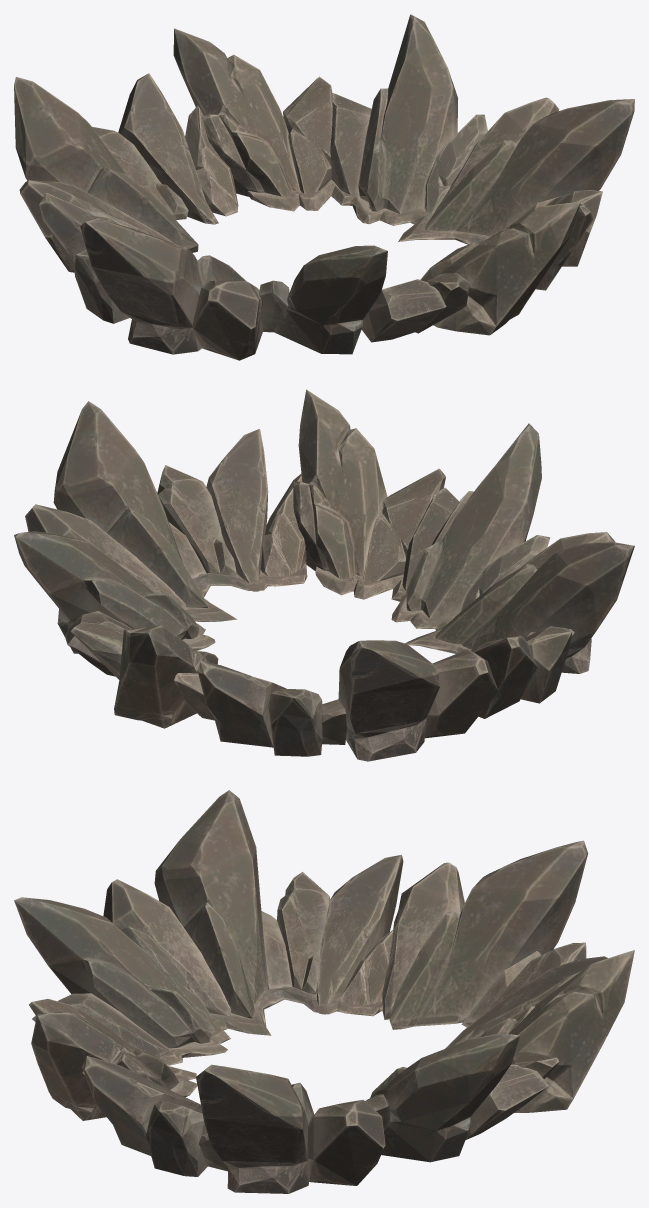
File: Rocks_Circle.fbx
3 renders of one model, top to bottom at view 1: azimuth 30°, elevation 25°; view 2: azimuth 150°, elevation 25°; view 3: azimuth 270°, elevation 25°, orthographic. The views are drawn at different scales.
Visible parts, largest first — view 1: Dn_VFX_Rocks_Circle_A.mo; view 2: Dn_VFX_Rocks_Circle_A.mo; view 3: Dn_VFX_Rocks_Circle_A.mo.
Boxes of the visible parts, bbox=[...] form: Dn_VFX_Rocks_Circle_A.mo: bbox=[14, 14, 634, 360]; Dn_VFX_Rocks_Circle_A.mo: bbox=[14, 389, 634, 761]; Dn_VFX_Rocks_Circle_A.mo: bbox=[14, 790, 634, 1193].
Bounding box in the file's own units: 582 × 138 × 543.
1 material, 1 textured.
